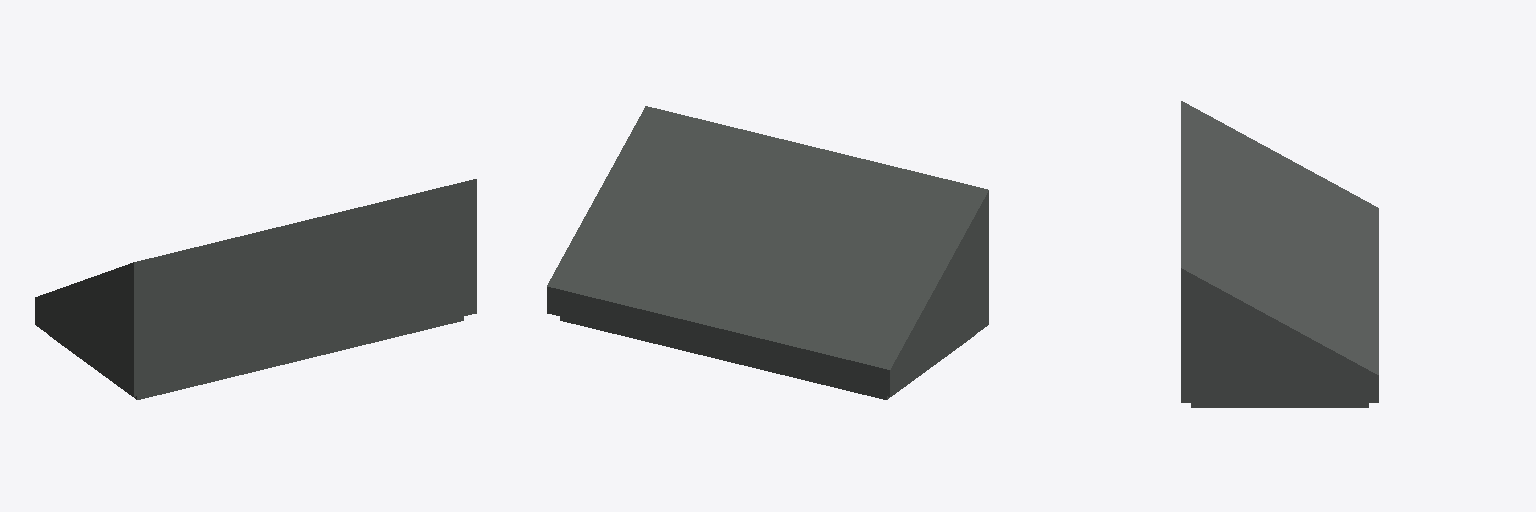
File: Roof_tile_31_1x2.obj
3 views of the same model, side by side, from view 1: azimuth 30°, elevation 25°; view 2: azimuth 150°, elevation 25°; view 3: azimuth 270°, elevation 25° (orthographic).
Visible parts, largest first — view 1: rect_4.rect_4n_rect_4, 85984_1.85984_1n_85984_1, box4_1.box4_1n_box4_1.001; view 2: 85984_1.85984_1n_85984_1, rect_3.rect_3n_rect_3, box4_1.box4_1n_box4_1.001; view 3: 85984_1.85984_1n_85984_1, box4_1.box4_1n_box4_1.001.
Boxes of the visible parts, x1,y1,x2,y2 form: rect_4.rect_4n_rect_4: [134, 179, 476, 396]; 85984_1.85984_1n_85984_1: [35, 262, 133, 396]; box4_1.box4_1n_box4_1.001: [49, 317, 463, 399]; 85984_1.85984_1n_85984_1: [547, 106, 988, 396]; rect_3.rect_3n_rect_3: [547, 287, 889, 396]; box4_1.box4_1n_box4_1.001: [560, 317, 974, 399]; 85984_1.85984_1n_85984_1: [1181, 101, 1378, 402]; box4_1.box4_1n_box4_1.001: [1191, 403, 1368, 407].
Size of the model in its own units: 4 by 1.6 by 2.